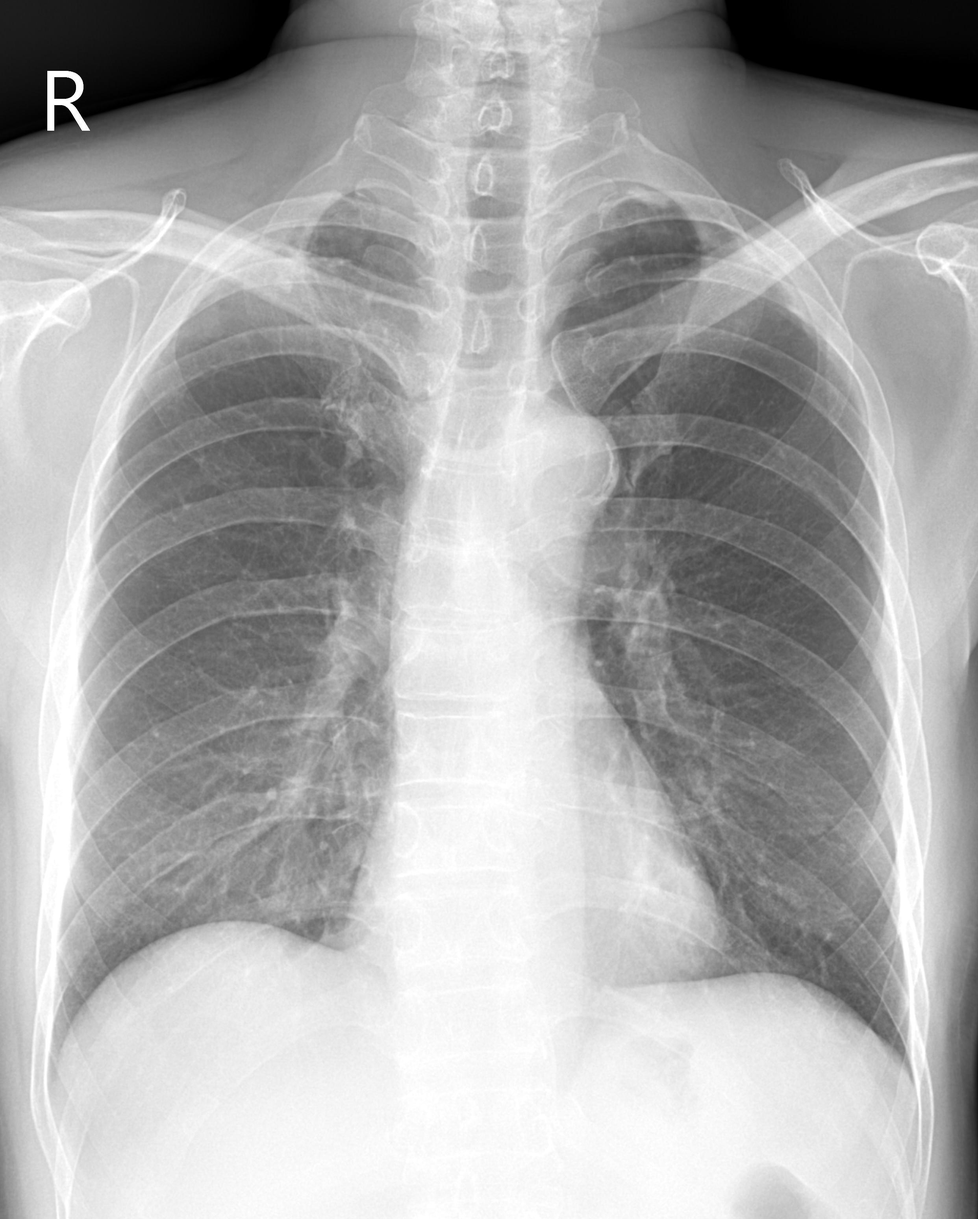Aortic enlargement: (511, 407, 623, 529)
Pleural thickening: (554, 186, 785, 259), (201, 224, 426, 294)
